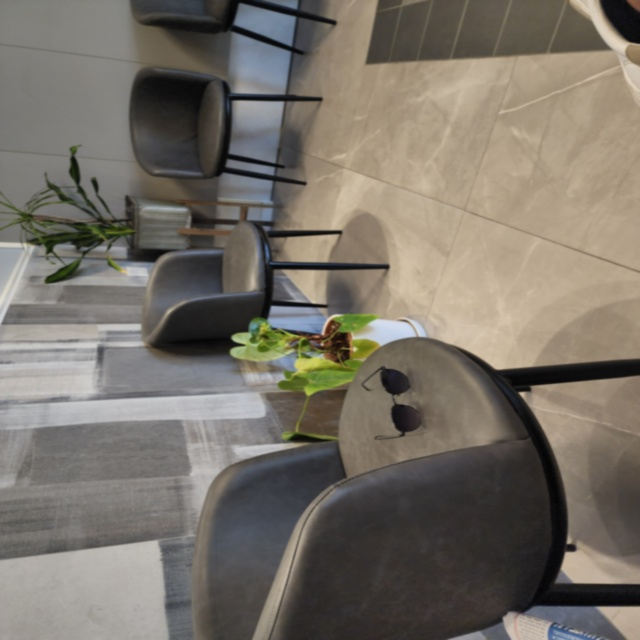glasses: (358, 363, 428, 443)
